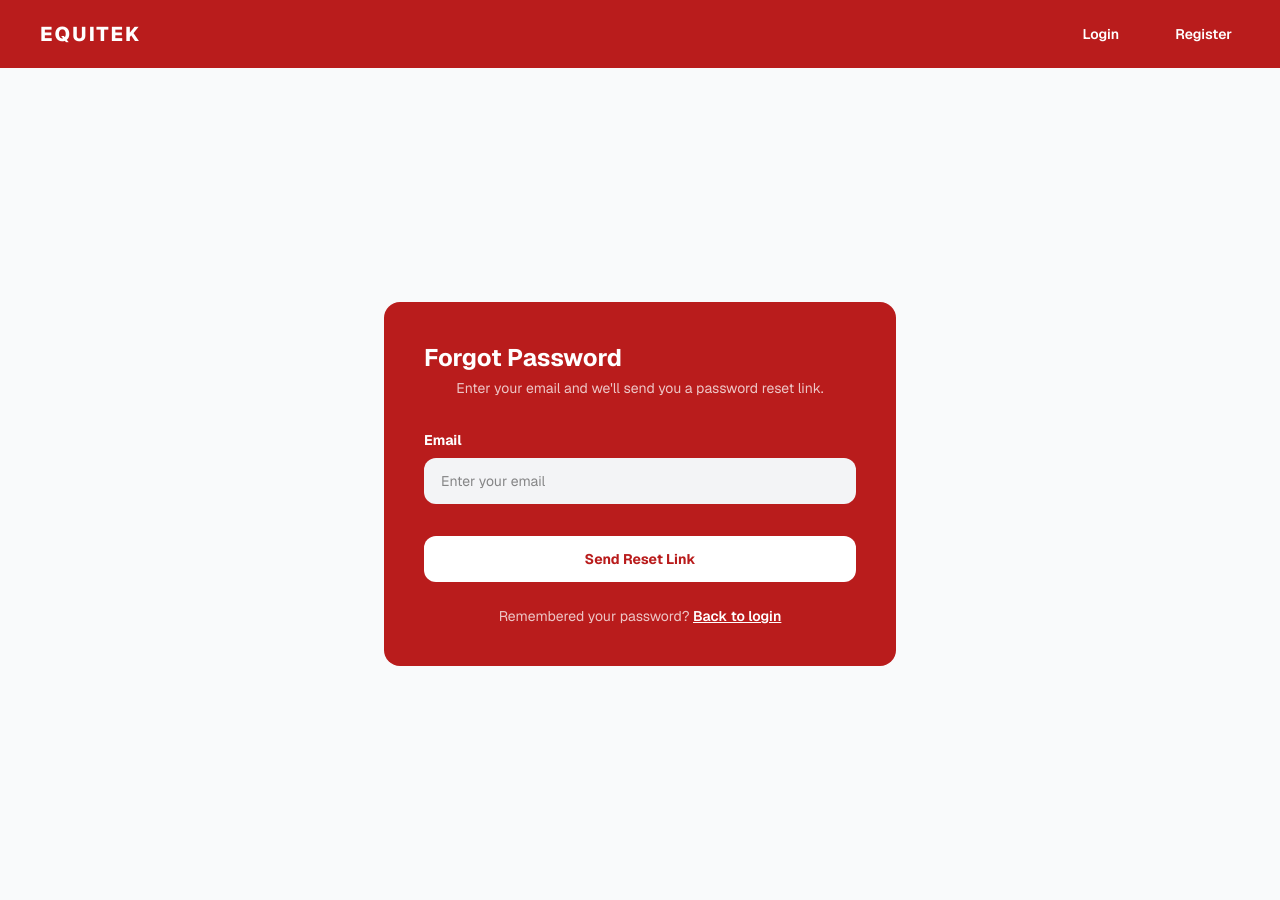
it: ForgotPasswordPage › uses the fallback success message when the API returns no message
Type "user@example.com" into the field labelled "Email". click: (640, 481)
box: [424,458,856,504]
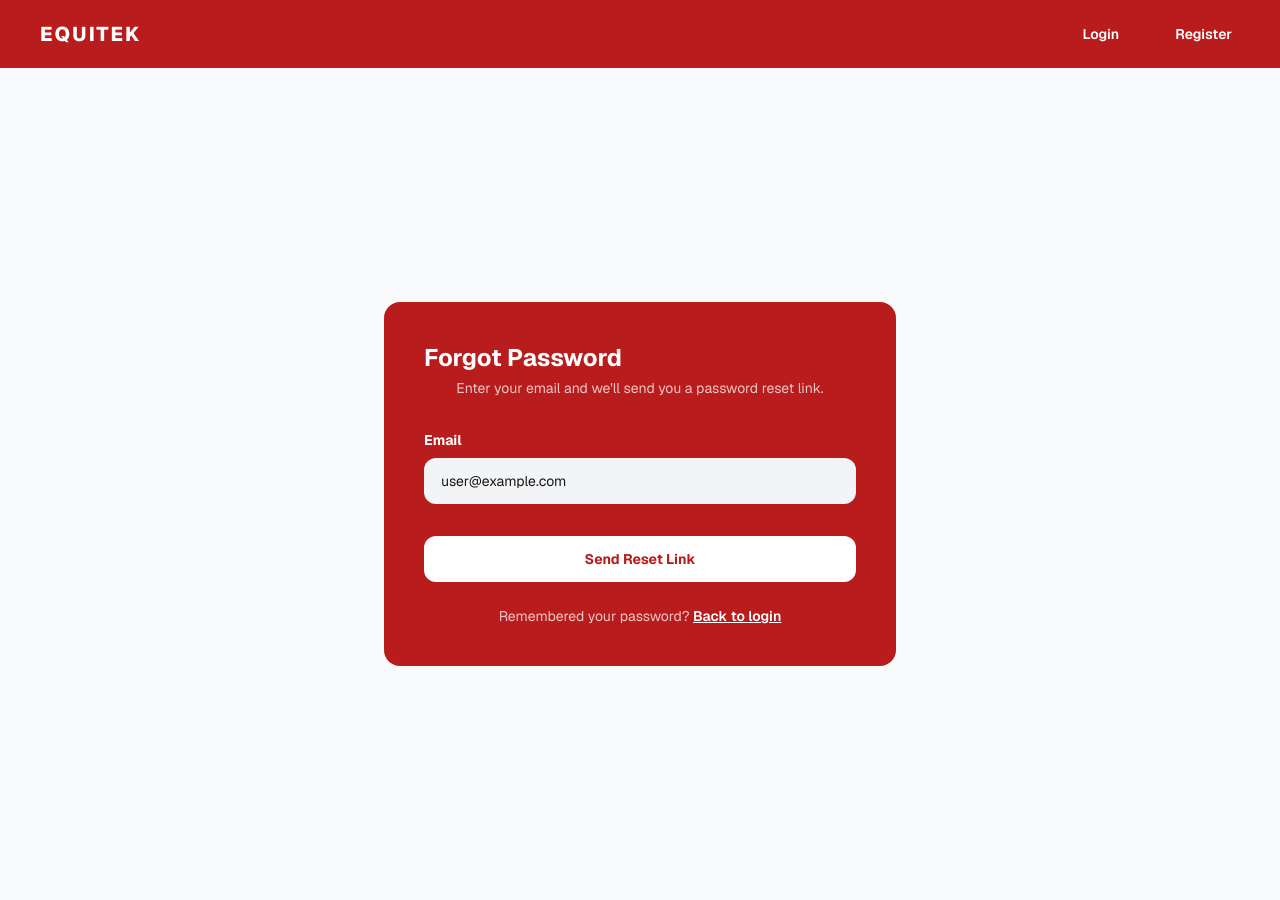
Click the button "Send Reset Link". click: (640, 559)
box: [424,536,856,582]
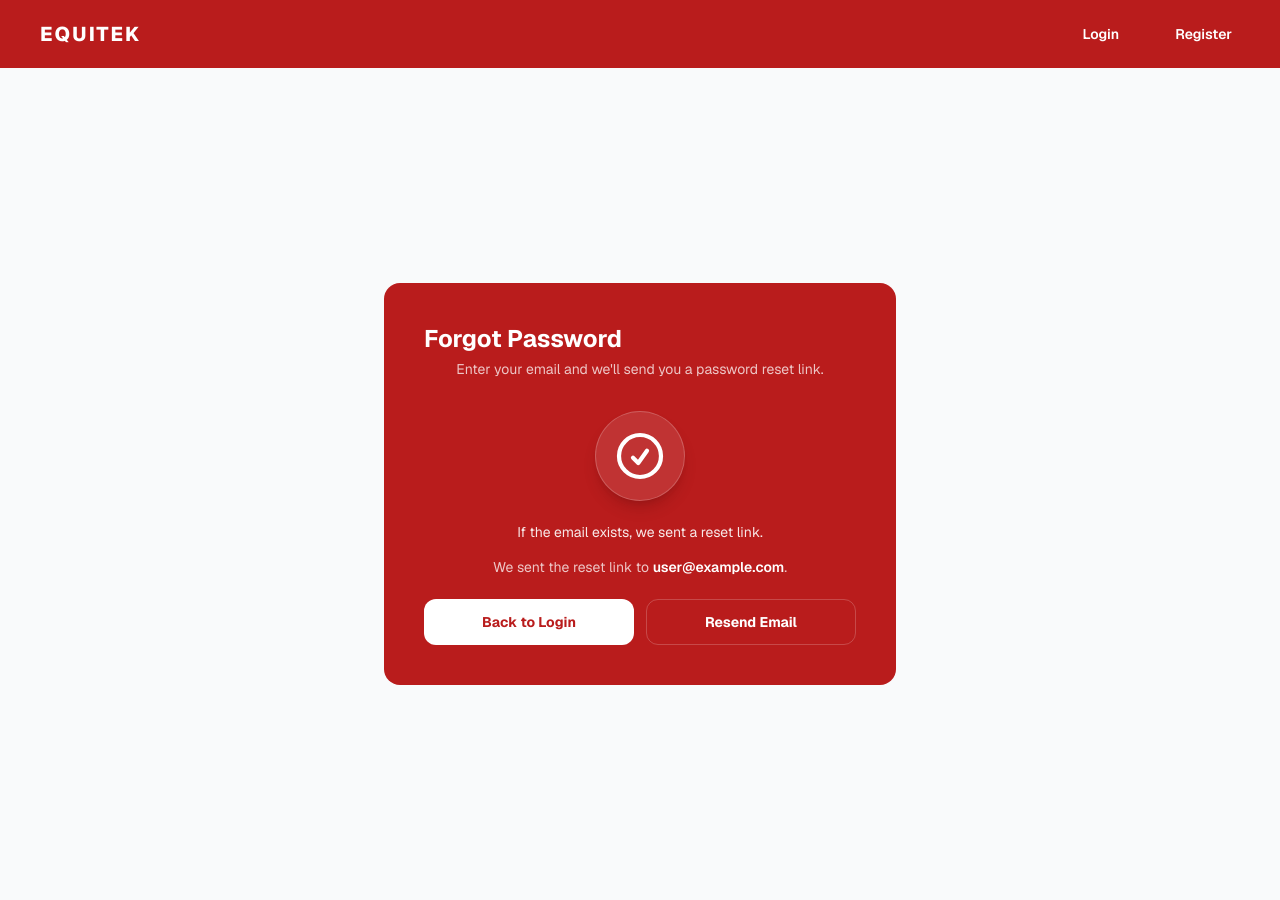
Now the text "If the email exists, we sent a reset link." is shown, box [517,523,763,541]
